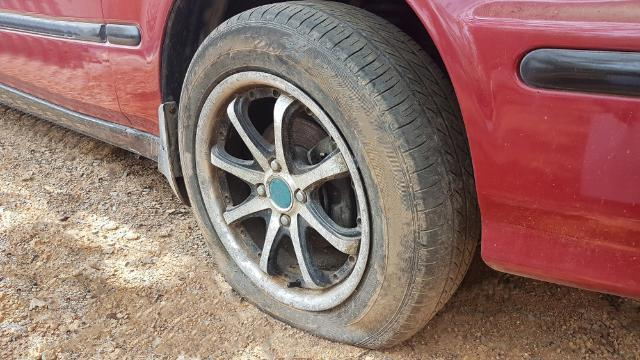tire flat: (178, 0, 481, 350)
